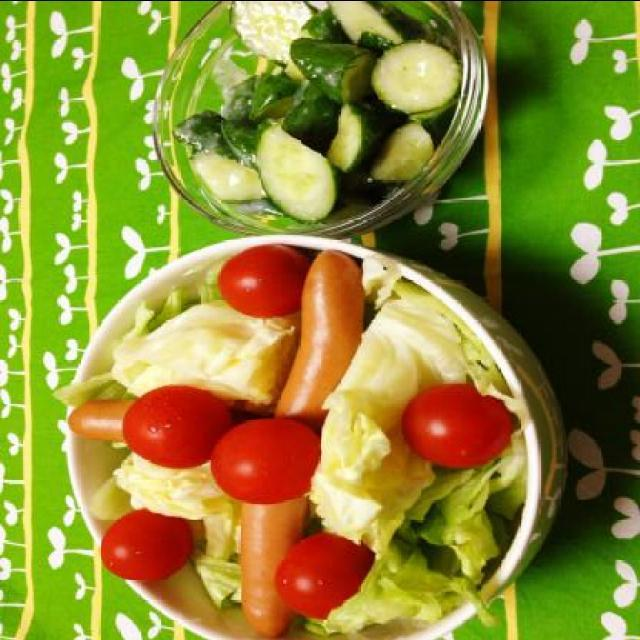Tomato: (124, 382, 233, 471), (210, 418, 322, 504), (277, 534, 377, 620), (402, 393, 500, 473), (217, 244, 314, 320), (99, 508, 196, 580)
